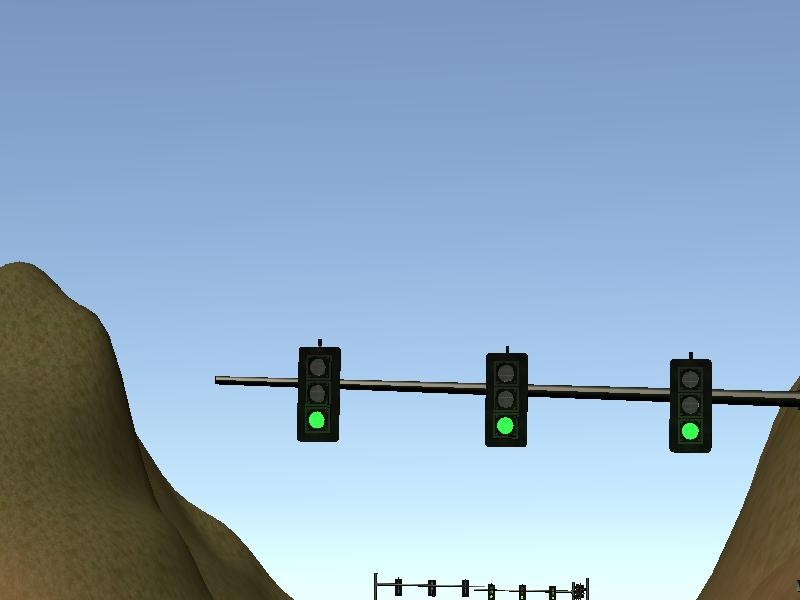green: (290, 338, 346, 450), (669, 358, 713, 455), (483, 355, 527, 450)
